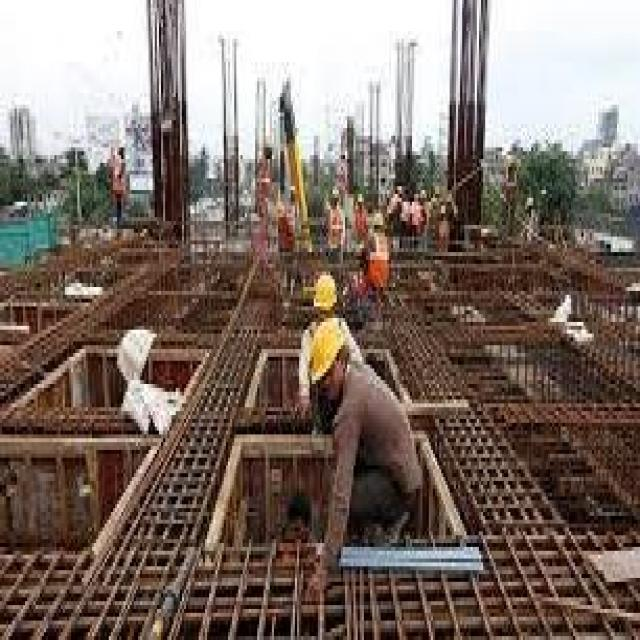Reflective-Jacket: (330, 357, 429, 508)
Safety-Helmet: (293, 310, 353, 396), (307, 264, 343, 318), (328, 182, 341, 206)
